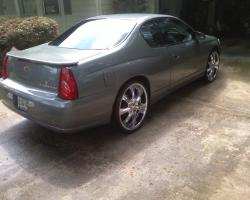Car: (2, 4, 231, 150)
